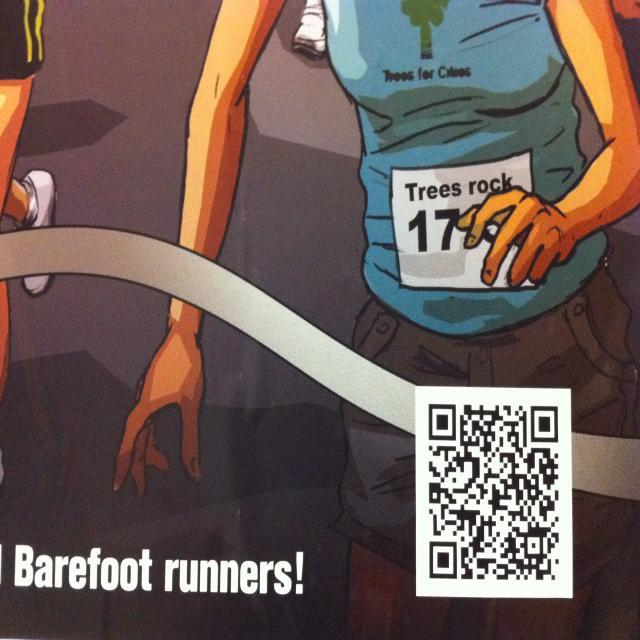qrcode: (429, 405, 560, 581)
